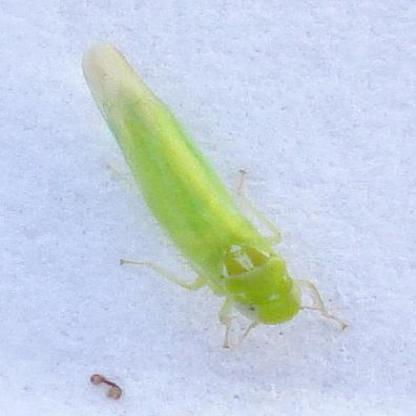green-leafhopper: (85, 46, 318, 330)
